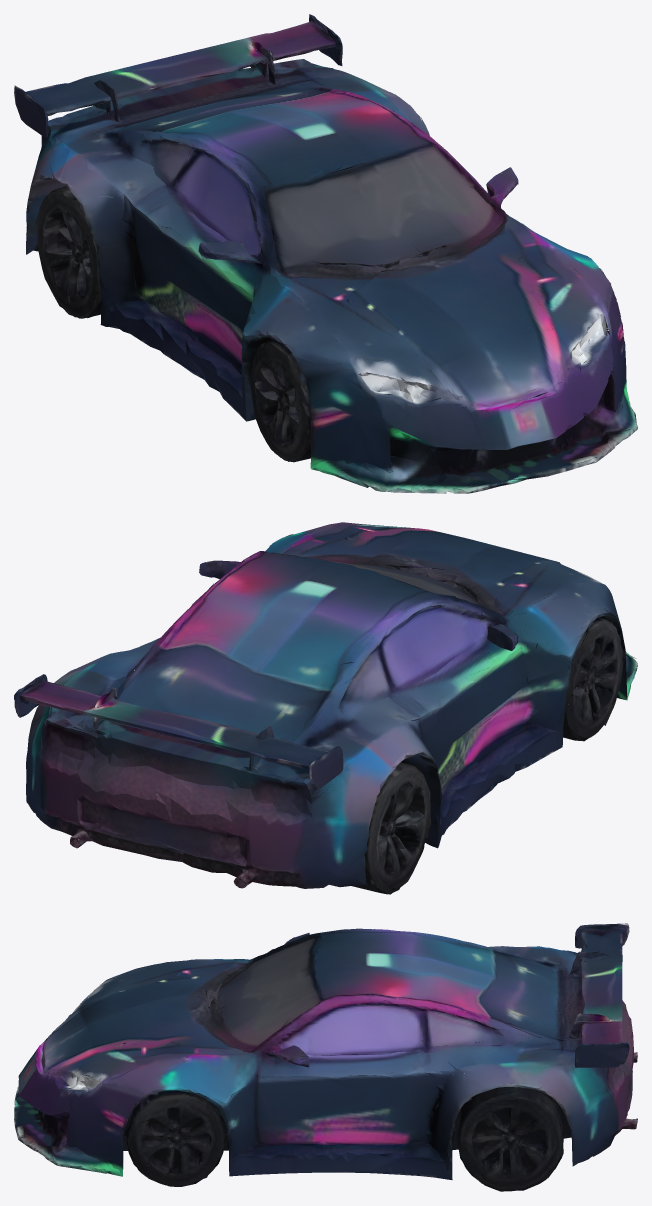
Rendered from exotichypercar_armor.glb.
The picture shows the model from 3 angles, top to bottom: view 1: azimuth 30°, elevation 25°; view 2: azimuth 150°, elevation 25°; view 3: azimuth 270°, elevation 25°; orthographic projection. The views are drawn at different scales.
Visible parts, largest first — view 1: Armor_Exotic_Hypercar; view 2: Armor_Exotic_Hypercar; view 3: Armor_Exotic_Hypercar.
Part boxes in pixels (bbox=[...]): Armor_Exotic_Hypercar: bbox=[14, 14, 637, 493]; Armor_Exotic_Hypercar: bbox=[14, 522, 637, 894]; Armor_Exotic_Hypercar: bbox=[14, 923, 637, 1191].
Size of the model in its own units: 0.631 by 0.353 by 1.2.
1 material, 1 textured.
